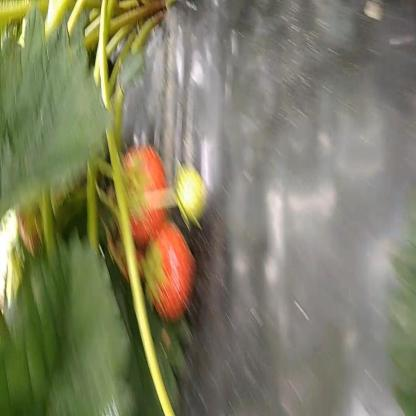ripe: (146, 222, 195, 322), (118, 152, 167, 242)
unripe: (174, 160, 212, 227)
